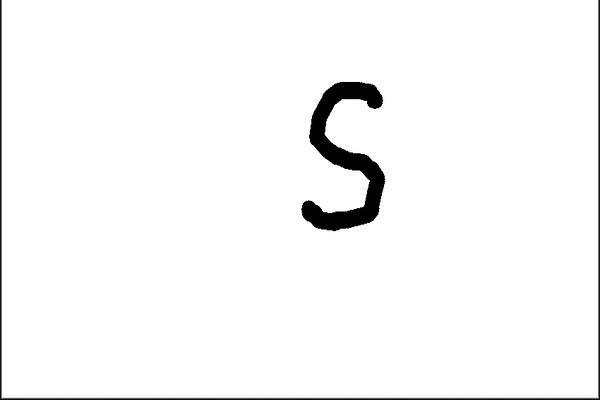S: (295, 73, 390, 237)
